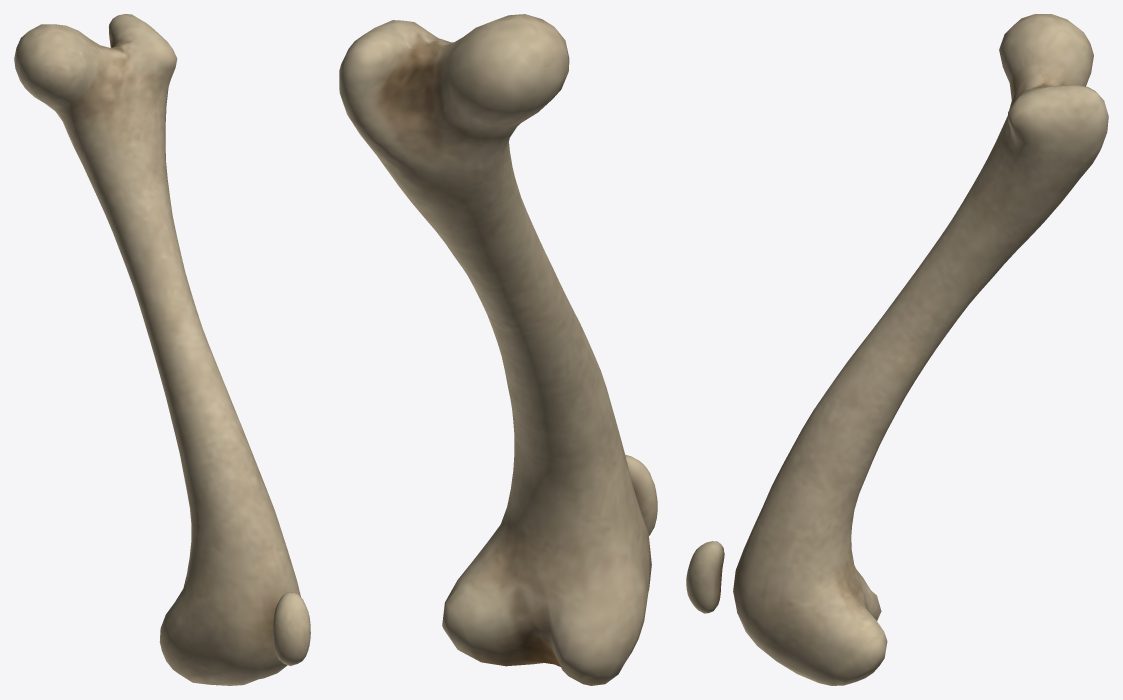
The model's file is Femur.glb.
3 renders of one model, left to right at view 1: azimuth 30°, elevation 25°; view 2: azimuth 150°, elevation 25°; view 3: azimuth 270°, elevation 25°, orthographic. The views are drawn at different scales.
Parts seen in each view (by area): view 1: polySurface11; view 2: polySurface11; view 3: polySurface11.
Part boxes in pixels (x1=…): polySurface11: x1=14, y1=14, x2=310, y2=685; polySurface11: x1=339, y1=14, x2=657, y2=685; polySurface11: x1=686, y1=14, x2=1108, y2=685.
Size of the model in its own units: 37.15 by 120 by 74.92.
1 material, 1 textured.
